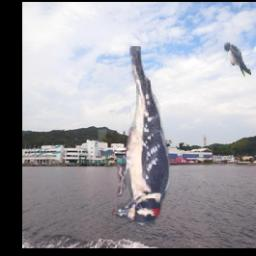Swallow: (224, 42, 251, 77)
Woodpecker: (113, 47, 172, 229)
